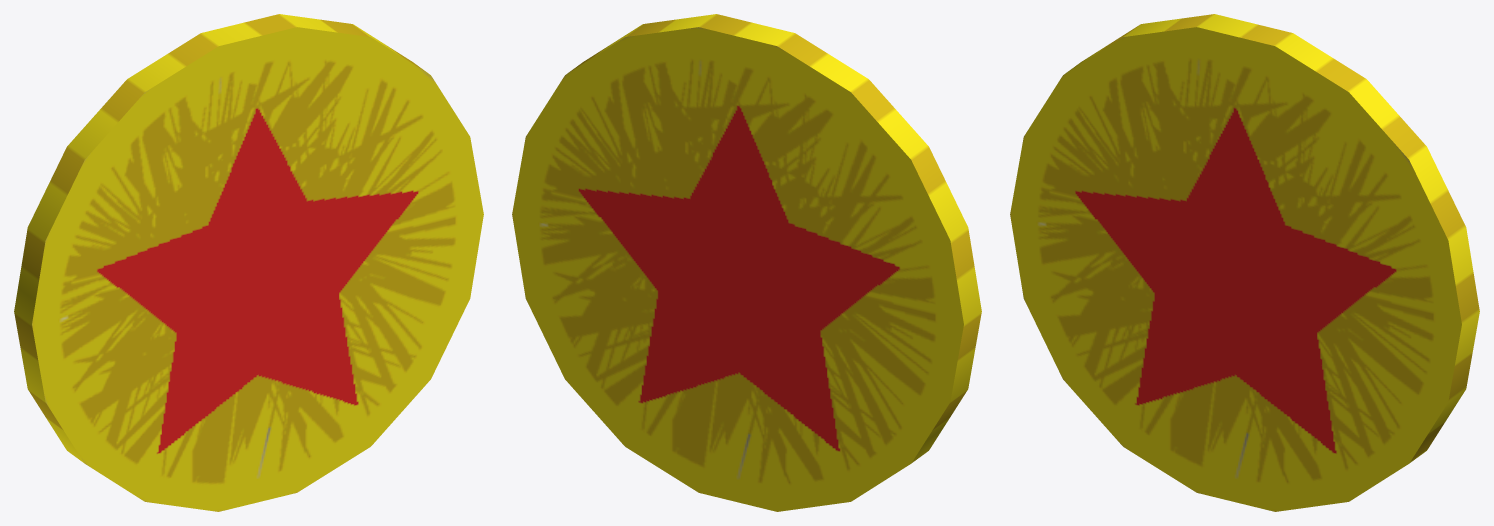
The model's file is redCoin.fbx.
3 renders of one model, left to right at view 1: azimuth 30°, elevation 25°; view 2: azimuth 150°, elevation 25°; view 3: azimuth 330°, elevation 25°, orthographic.
Parts seen in each view (by area): view 1: RedCoin_geo; view 2: RedCoin_geo; view 3: RedCoin_geo.
Boxes of the visible parts, bbox=[...] form: RedCoin_geo: bbox=[14, 14, 483, 511]; RedCoin_geo: bbox=[512, 14, 981, 511]; RedCoin_geo: bbox=[1010, 14, 1479, 511].
Size of the model in its own units: 123 by 121 by 8.45.
